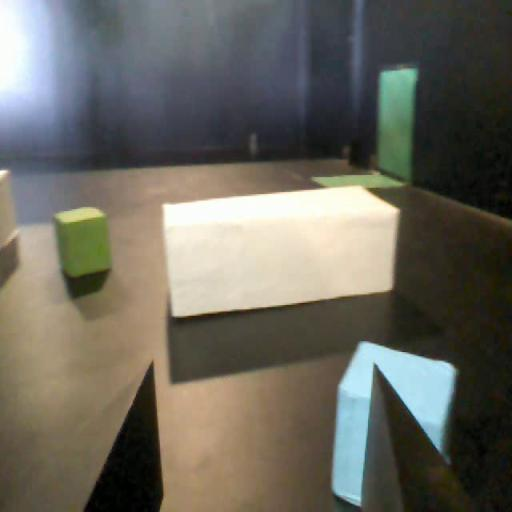cube: (330, 327, 457, 502), (46, 204, 111, 279)
